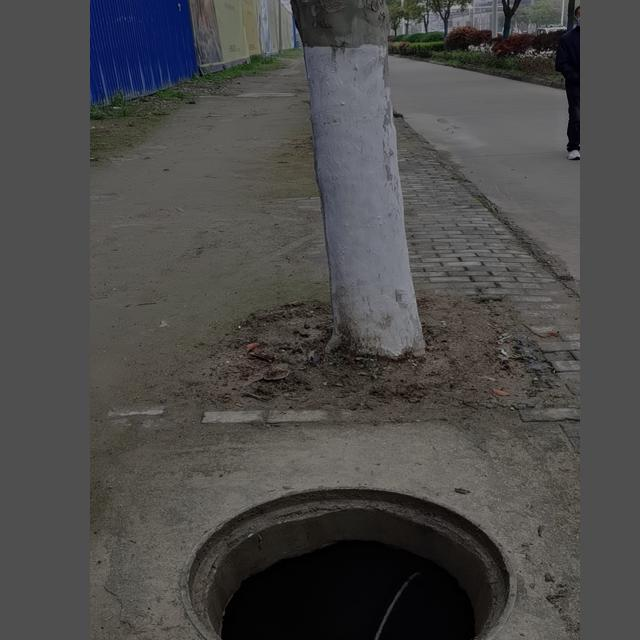lose: (177, 482, 520, 640)
